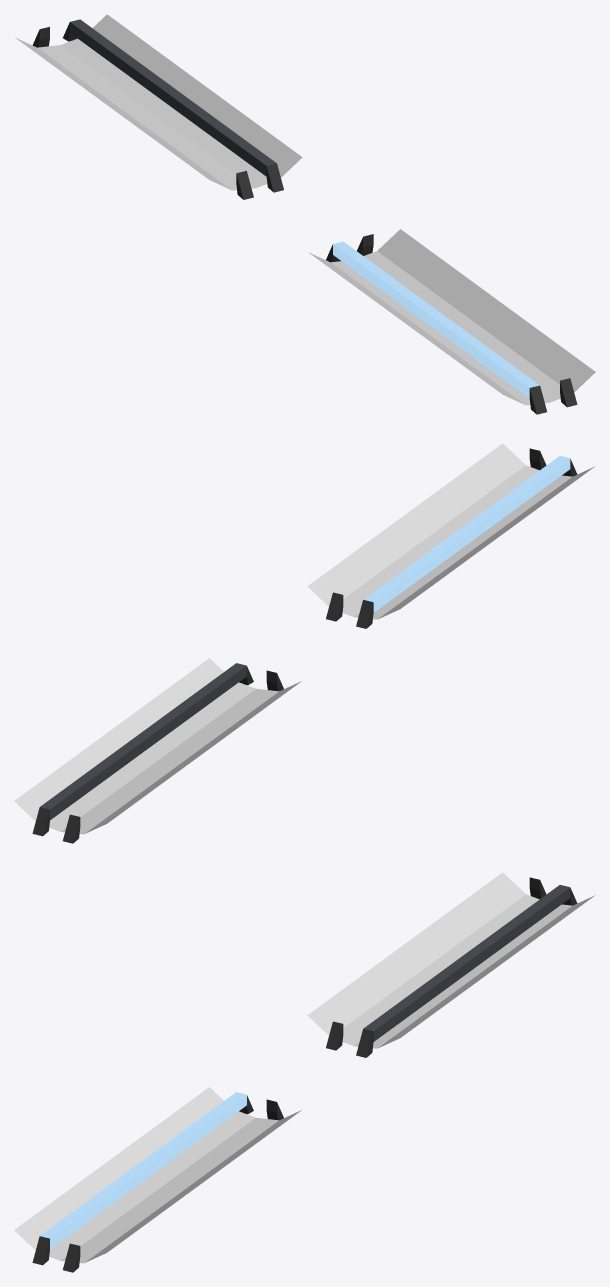
File: lights_03.glb
3 views of the same model, one above another, from view 1: azimuth 30°, elevation 25°; view 2: azimuth 150°, elevation 25°; view 3: azimuth 330°, elevation 25° (orthographic).
Parts seen in each view (by area): view 1: lights_03; view 2: lights_03; view 3: lights_03.
Boxes of the visible parts, x1,y1,x2,y2 form: lights_03: (15,14,595,414); lights_03: (14,443,594,843); lights_03: (14,872,594,1272).
Bounding box in the file's own units: 0.5244 × 0.1157 × 4.92.
